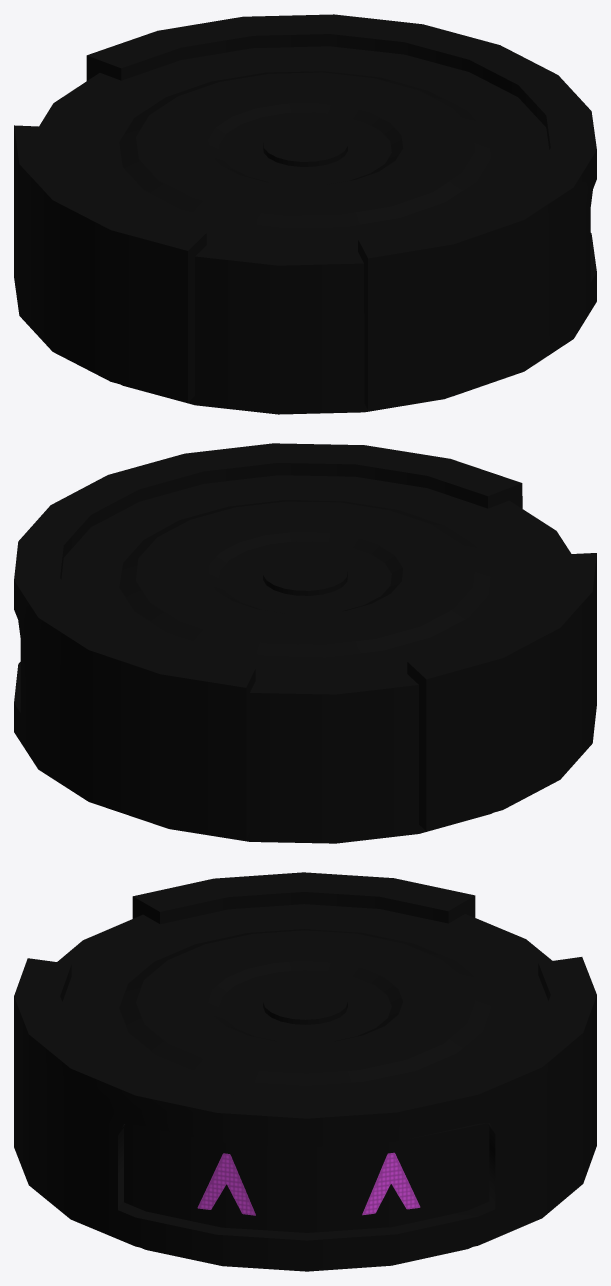
File: roomba (1).fbx
The picture shows the model from 3 angles, top to bottom: view 1: azimuth 30°, elevation 25°; view 2: azimuth 150°, elevation 25°; view 3: azimuth 270°, elevation 25°; orthographic projection.
Visible parts, largest first — view 1: rumbi.001; view 2: rumbi.001; view 3: rumbi.001, rumbi_eyes.001.
Part boxes in pixels (x1,y1,x2,y2): rumbi.001: [14, 14, 596, 414]; rumbi.001: [14, 443, 596, 843]; rumbi.001: [14, 872, 596, 1271]; rumbi_eyes.001: [197, 1152, 420, 1215].
Bounding box in the file's own units: 4098 × 1244 × 4098.
Materials: 2 (1 with a texture image).
